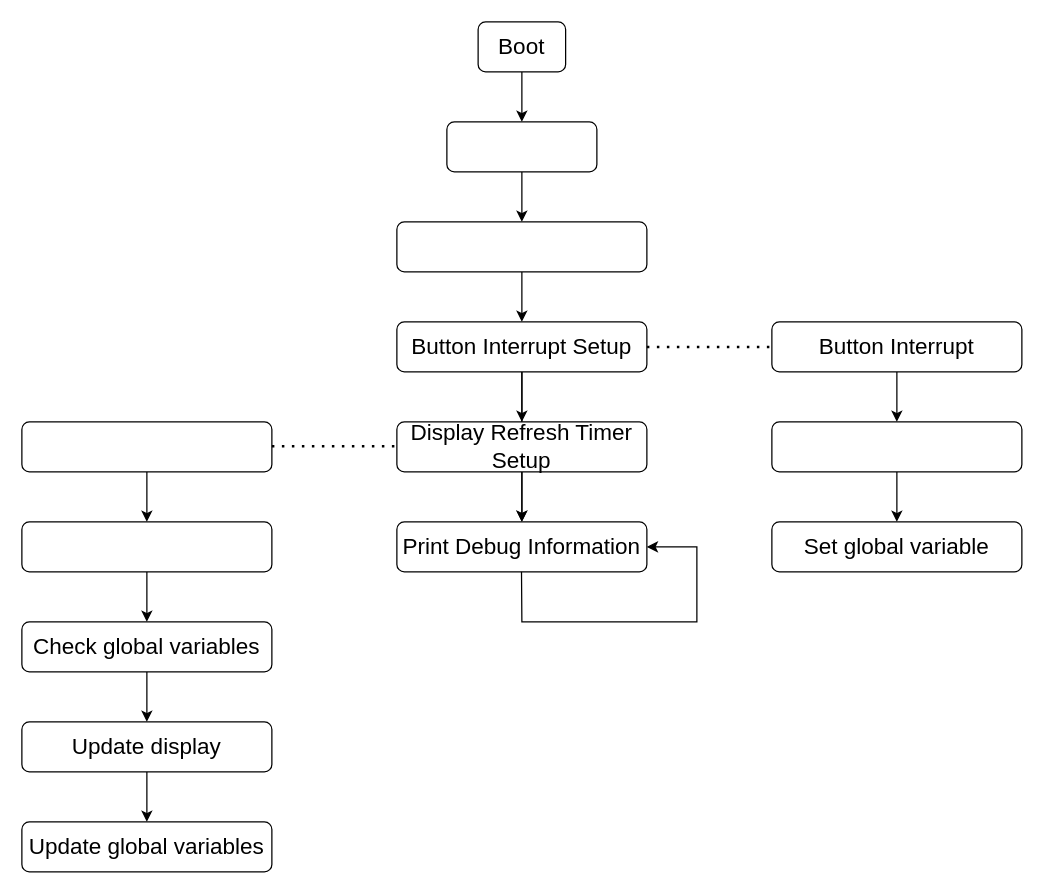
This 1044x894 diagram has some shape labels left out. Each missing label, with the centre of its shape:
Check time: [896,446]
Display Initialization: [521,146]
Run TimerISR: [146,546]
Timer Interrupt every 16ms (60 Hz): [146,446]
Wait for buttons to be de-pressed: [521,246]
